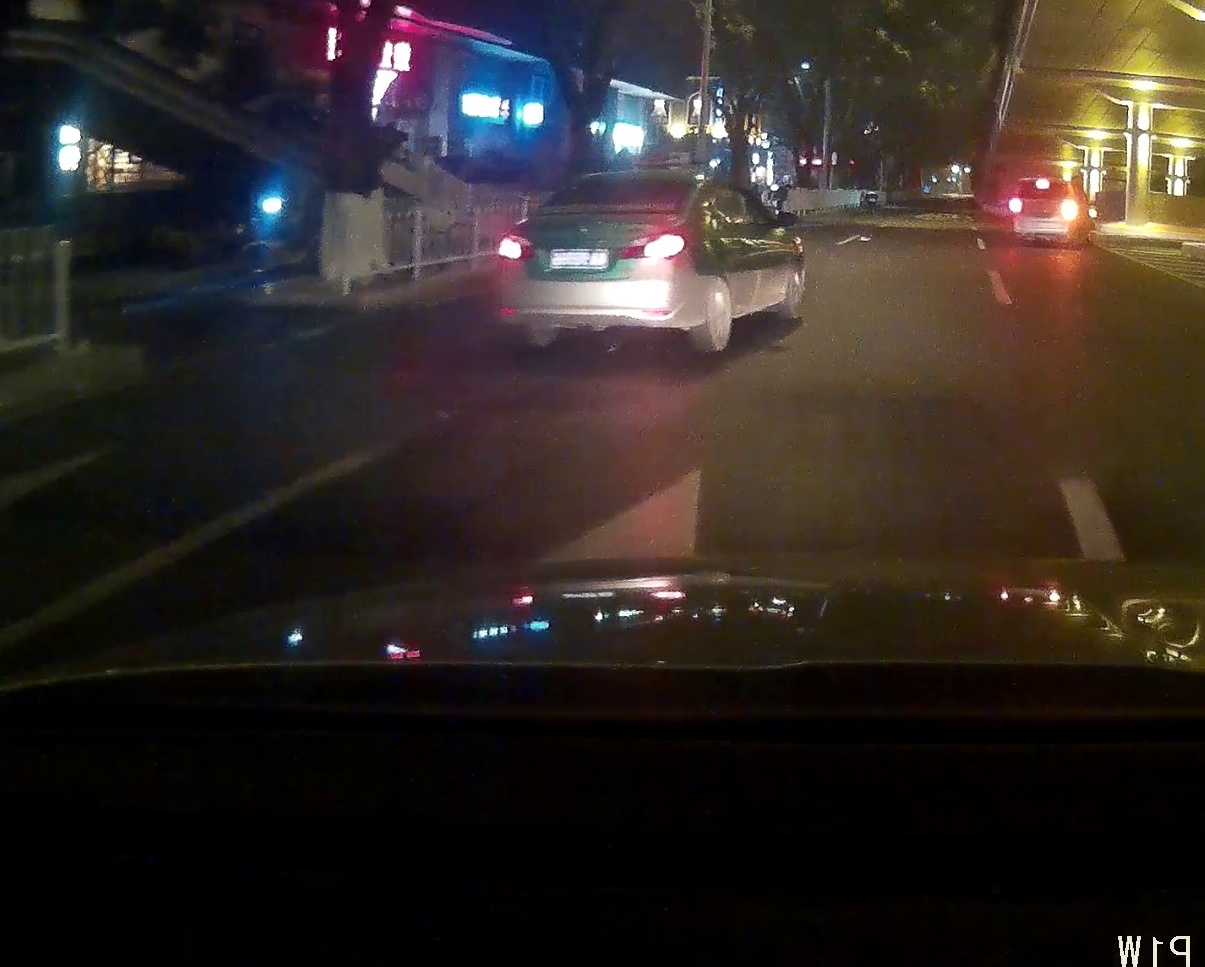L_light: (497, 226, 535, 261), (1011, 197, 1020, 220)
R_light: (620, 225, 690, 258), (1064, 201, 1075, 221)
T_light: (1035, 180, 1050, 189), (613, 176, 631, 181)
night-no: (496, 169, 702, 353)
night-right: (1011, 176, 1077, 245)
